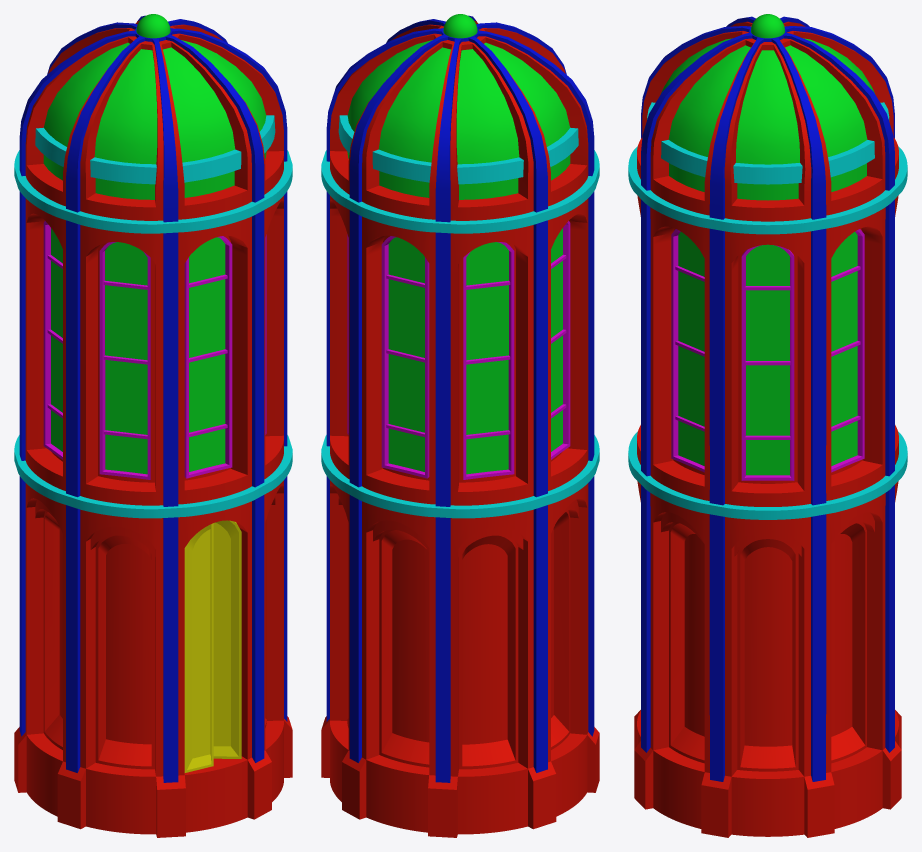
The model's file is tower.fbx.
3 views of the same model, side by side, from view 1: azimuth 30°, elevation 25°; view 2: azimuth 150°, elevation 25°; view 3: azimuth 270°, elevation 25° (orthographic).
Visible parts, largest first — view 1: part9; view 2: part9; view 3: part9.
Part boxes in pixels (bbox=[...]): part9: bbox=[14, 14, 292, 837]; part9: bbox=[321, 14, 599, 837]; part9: bbox=[628, 14, 907, 837].
Bounding box in the file's own units: 2.97 × 8.98 × 2.97.
